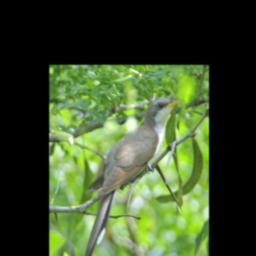Cuckoo: (84, 97, 182, 256)
